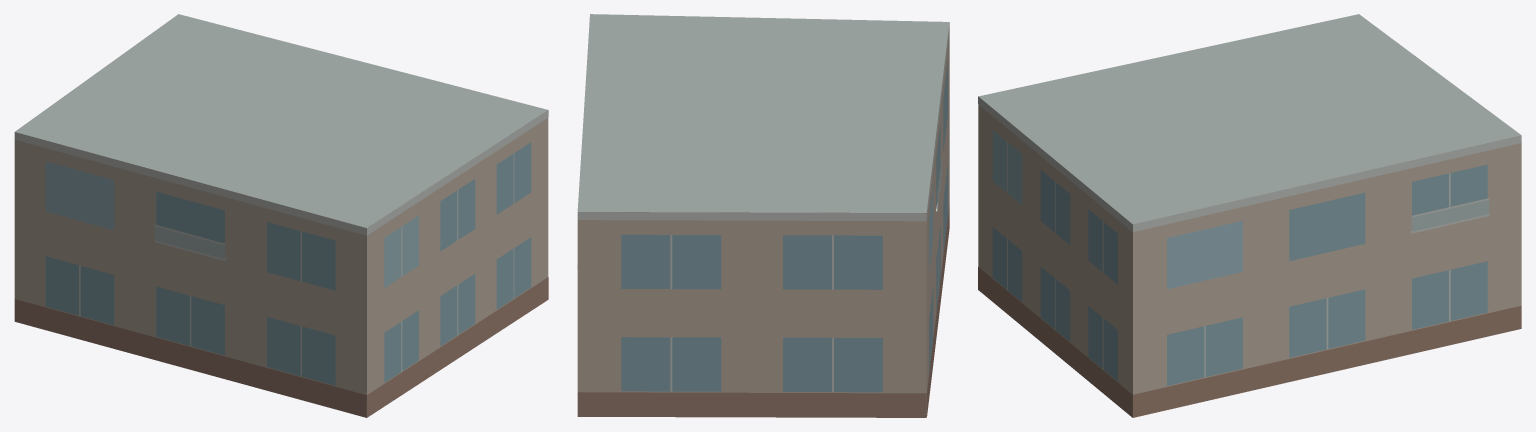
File: survey-upis-32687560.glb
3 renders of one model, left to right at view 1: azimuth 30°, elevation 25°; view 2: azimuth 150°, elevation 25°; view 3: azimuth 270°, elevation 25°, orthographic. The views are drawn at different scales.
Visible parts, largest first — view 1: survey-upis-32687560.tmp; view 2: survey-upis-32687560.tmp; view 3: survey-upis-32687560.tmp.
Boxes of the visible parts, x1,y1,x2,y2 form: survey-upis-32687560.tmp: (14, 14, 548, 417); survey-upis-32687560.tmp: (577, 14, 949, 417); survey-upis-32687560.tmp: (978, 14, 1521, 417).
Bounding box in the file's own units: 14.24 × 6.1 × 15.54.
